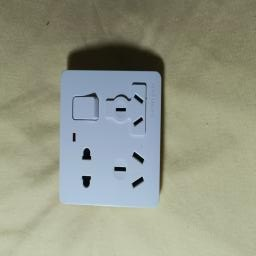outlet: (54, 60, 171, 207)
